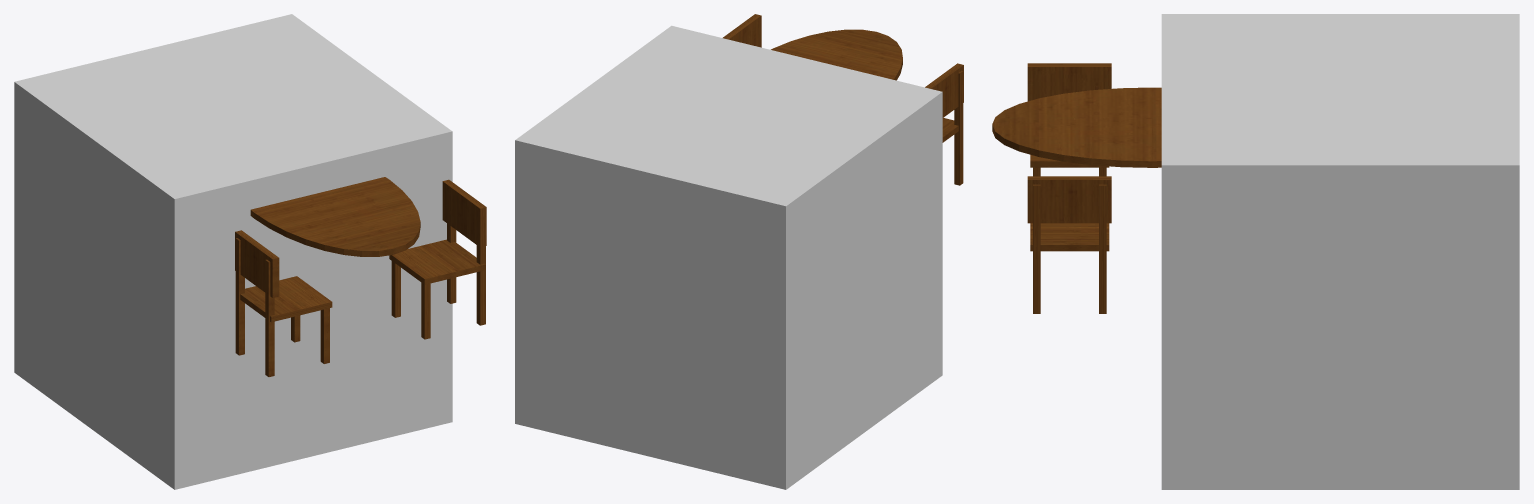
The model's file is tablefortwo.gltf.
The picture shows the model from 3 angles, left to right: view 1: azimuth 30°, elevation 25°; view 2: azimuth 150°, elevation 25°; view 3: azimuth 270°, elevation 25°; orthographic projection. The views are drawn at different scales.
Parts seen in each view (by area): view 1: Cube, Cylinder, Cube.012, Cube.001, Cube.007, Cube.006, Cube.003, Cube.004, Cube.010, Cube.011, Cube.005, Cube.008; view 2: Cube, Cylinder, Cube.006, Cube.004, Cube.007; view 3: Cube, Cylinder, Cube.007, Cube.006, Cube.012, Cube.009, Cube.010.
Boxes of the visible parts, <box> form: Cube: <box>14,14,452,489</box>; Cylinder: <box>250,177,420,256</box>; Cube.012: <box>389,239,485,284</box>; Cube.001: <box>240,276,332,322</box>; Cube.007: <box>442,179,486,247</box>; Cube.006: <box>235,230,279,297</box>; Cube.003: <box>235,238,244,355</box>; Cube.004: <box>265,259,274,376</box>; Cube.010: <box>476,245,485,325</box>; Cube.011: <box>421,282,430,339</box>; Cube.005: <box>320,308,329,363</box>; Cube.008: <box>391,261,400,317</box>; Cube: <box>515,25,942,489</box>; Cylinder: <box>771,29,902,80</box>; Cube.006: <box>925,63,963,117</box>; Cube.004: <box>954,71,963,185</box>; Cube.007: <box>723,14,761,47</box>; Cube: <box>1161,14,1519,489</box>; Cylinder: <box>992,87,1161,167</box>; Cube.007: <box>1027,176,1111,223</box>; Cube.006: <box>1027,63,1111,101</box>; Cube.012: <box>1030,223,1109,251</box>; Cube.009: <box>1099,184,1106,313</box>; Cube.010: <box>1033,184,1040,313</box>.
Bounding box in the file's own units: 2 × 2 × 2.95.
Materials: 1 (1 with a texture image).
